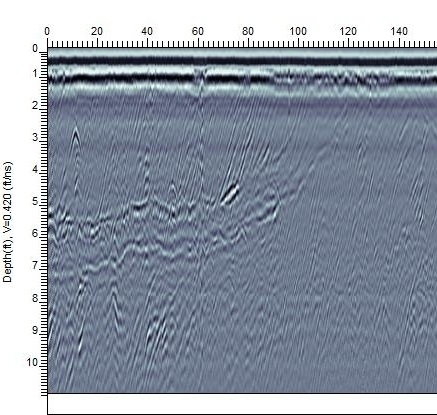hyperbola: (66, 125, 85, 158)
